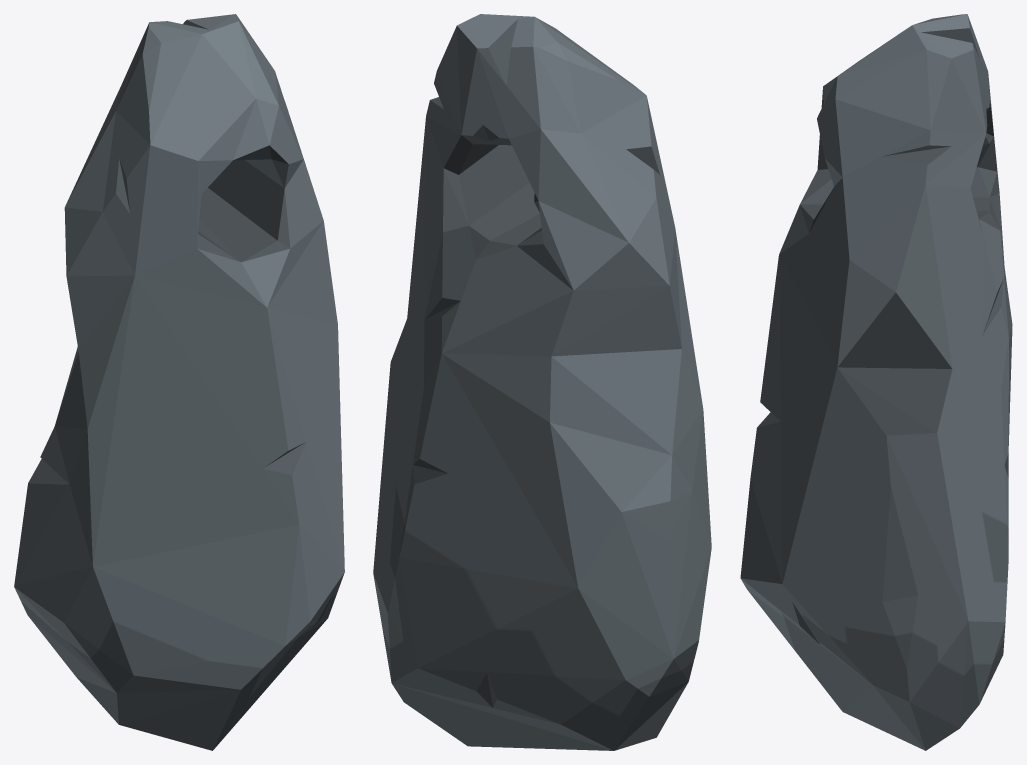
Rendered from SM_Prop_Stone_Hole_01.fbx.
3 views of the same model, side by side, from view 1: azimuth 30°, elevation 25°; view 2: azimuth 150°, elevation 25°; view 3: azimuth 270°, elevation 25° (orthographic). The views are drawn at different scales.
Visible parts, largest first — view 1: SM_Prop_Stone_Hole_01; view 2: SM_Prop_Stone_Hole_01; view 3: SM_Prop_Stone_Hole_01.
Boxes of the visible parts, box(x1,y1,x2,y2) form: SM_Prop_Stone_Hole_01: box(14, 14, 344, 750); SM_Prop_Stone_Hole_01: box(373, 14, 711, 750); SM_Prop_Stone_Hole_01: box(740, 14, 1012, 750).
Size of the model in its own units: 133 by 309 by 109.
Materials: 1 (1 with a texture image).
